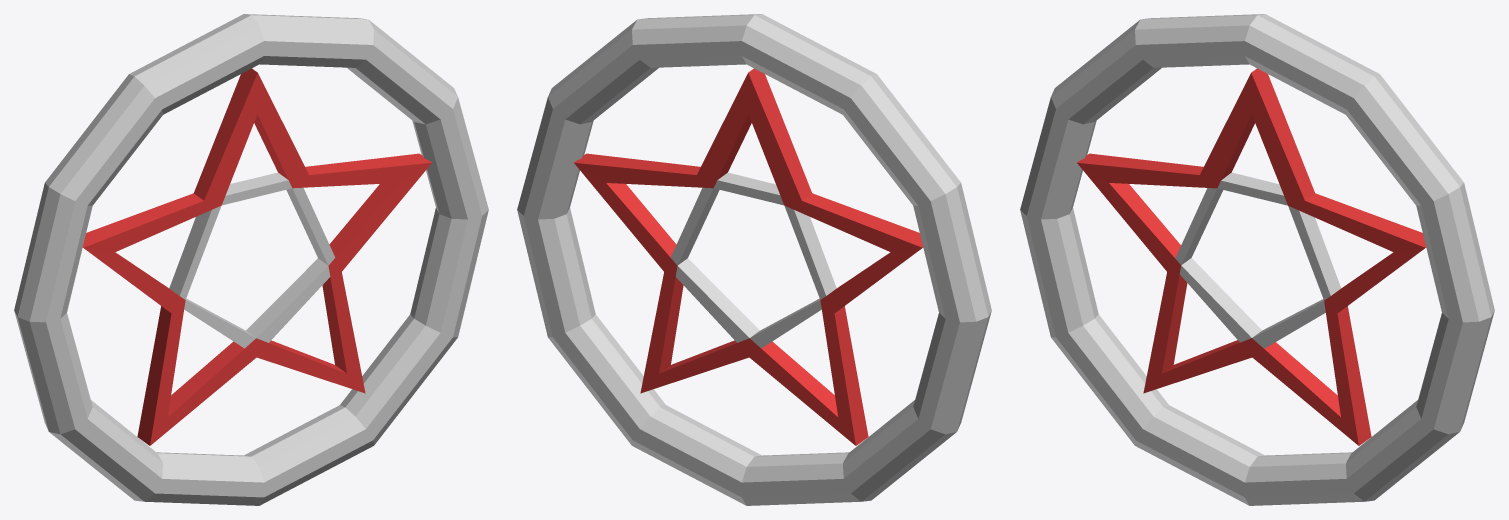
File: HellBonus.fbx
3 views of the same model, side by side, from view 1: azimuth 30°, elevation 25°; view 2: azimuth 150°, elevation 25°; view 3: azimuth 330°, elevation 25° (orthographic).
Parts seen in each view (by area): view 1: Cylinder; view 2: Cylinder; view 3: Cylinder.
Boxes of the visible parts, bbox=[...] form: Cylinder: bbox=[14, 14, 488, 505]; Cylinder: bbox=[517, 14, 991, 505]; Cylinder: bbox=[1020, 14, 1494, 505].
Size of the model in its own units: 39.2 by 39.2 by 3.67.
